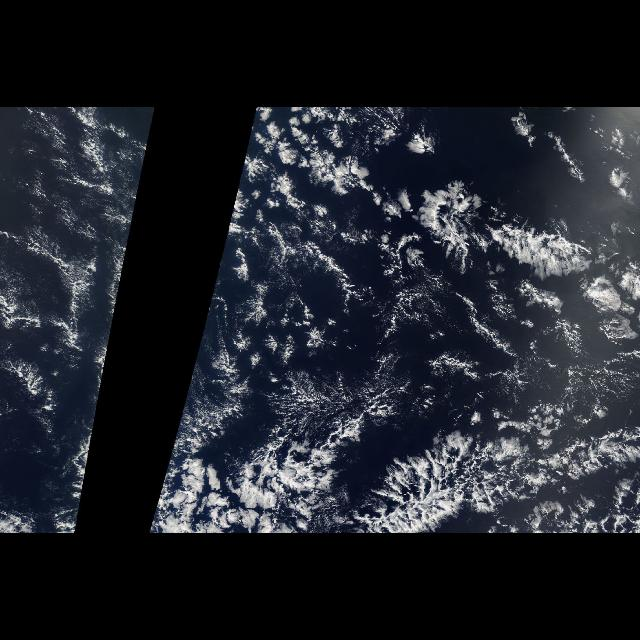Fish: (267, 373, 639, 533)
Gravel: (0, 107, 138, 410)
